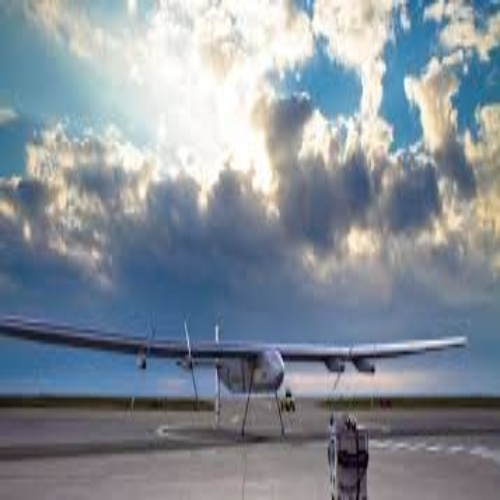uav320: (2, 312, 471, 407)
